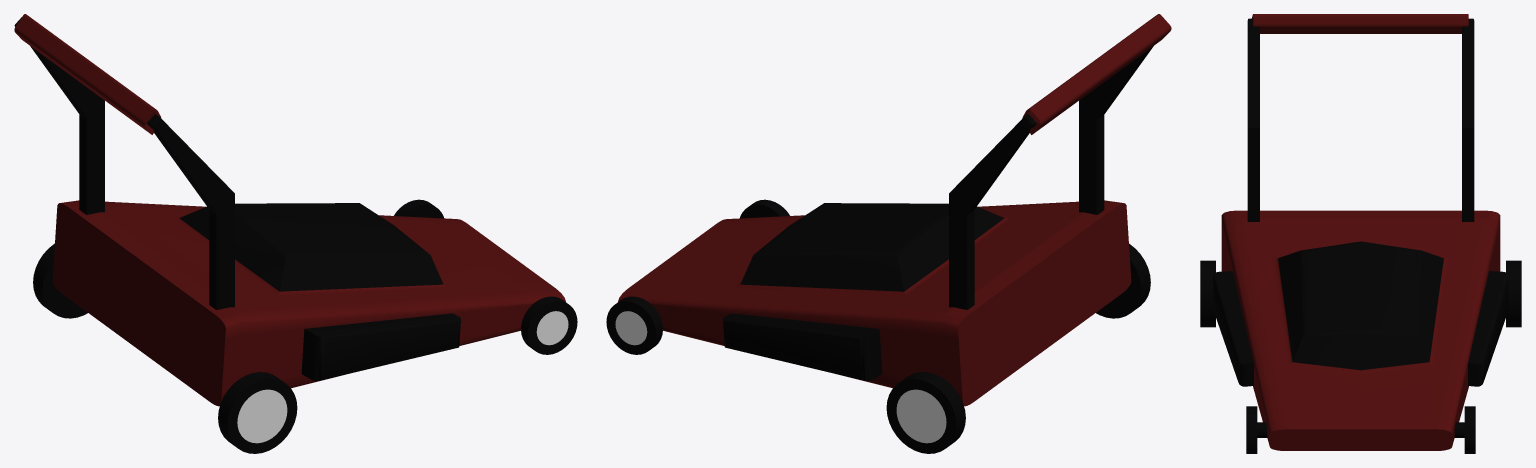
File: Kosilica.fbx
The picture shows the model from 3 angles, left to right: view 1: azimuth 30°, elevation 25°; view 2: azimuth 150°, elevation 25°; view 3: azimuth 270°, elevation 25°; orthographic projection. The views are drawn at different scales.
Visible parts, largest first — view 1: Cube; view 2: Cube; view 3: Cube.
Boxes of the visible parts, box(x1,y1,x2,y2) form: Cube: box(14, 14, 577, 453); Cube: box(606, 14, 1171, 453); Cube: box(1200, 14, 1521, 453).
Bounding box in the file's own units: 232 × 173 × 180.
